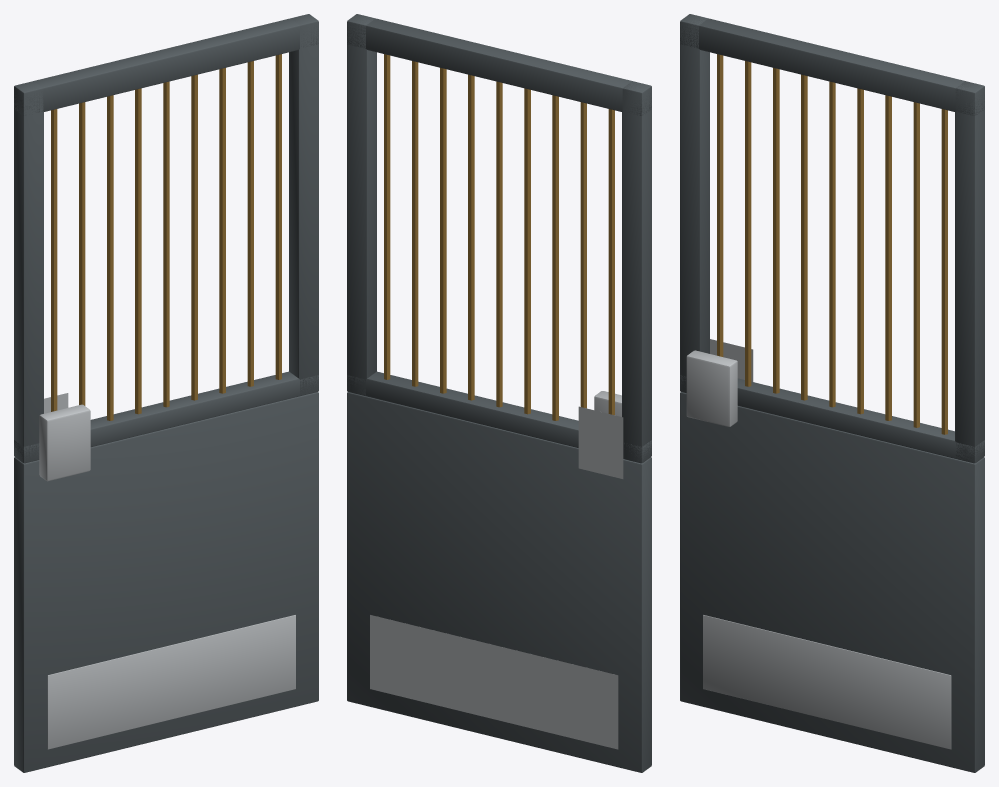
The model's file is tideline_cage_door.glb.
The picture shows the model from 3 angles, left to right: view 1: azimuth 30°, elevation 25°; view 2: azimuth 150°, elevation 25°; view 3: azimuth 330°, elevation 25°; orthographic projection.
Parts seen in each view (by area): view 1: tideline_cage_door; view 2: tideline_cage_door; view 3: tideline_cage_door.
Part boxes in pixels (x1,y1,x2,y2): tideline_cage_door: [14, 14, 318, 772]; tideline_cage_door: [347, 14, 651, 772]; tideline_cage_door: [680, 14, 984, 772].
Size of the model in its own units: 1 by 2.2 by 0.135.
